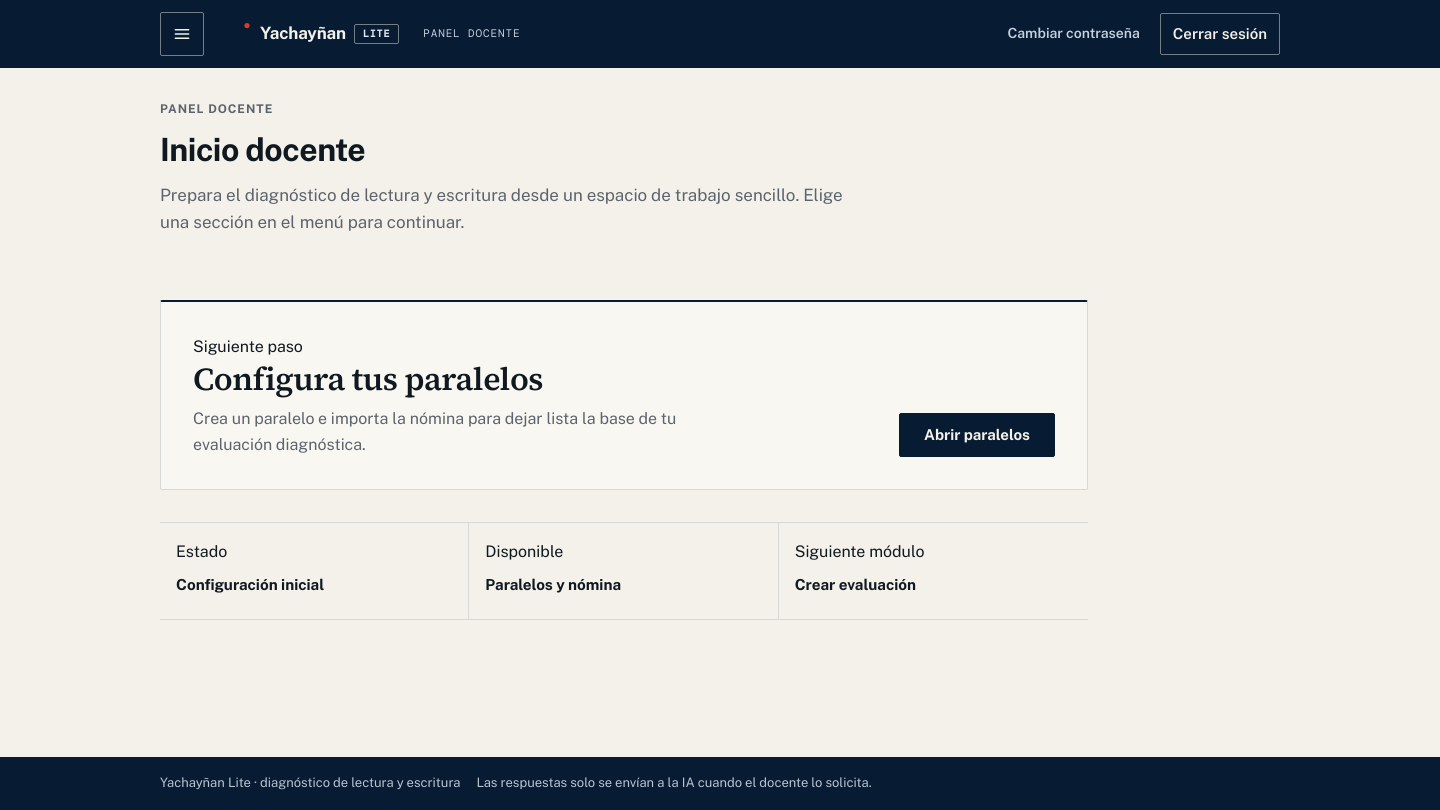
Test case: App › muestra un enlace discreto para cambiar la contraseña desde el inicio docente
Click the link "Cambiar contraseña" at (1074, 33), box [1008, 25, 1140, 41]
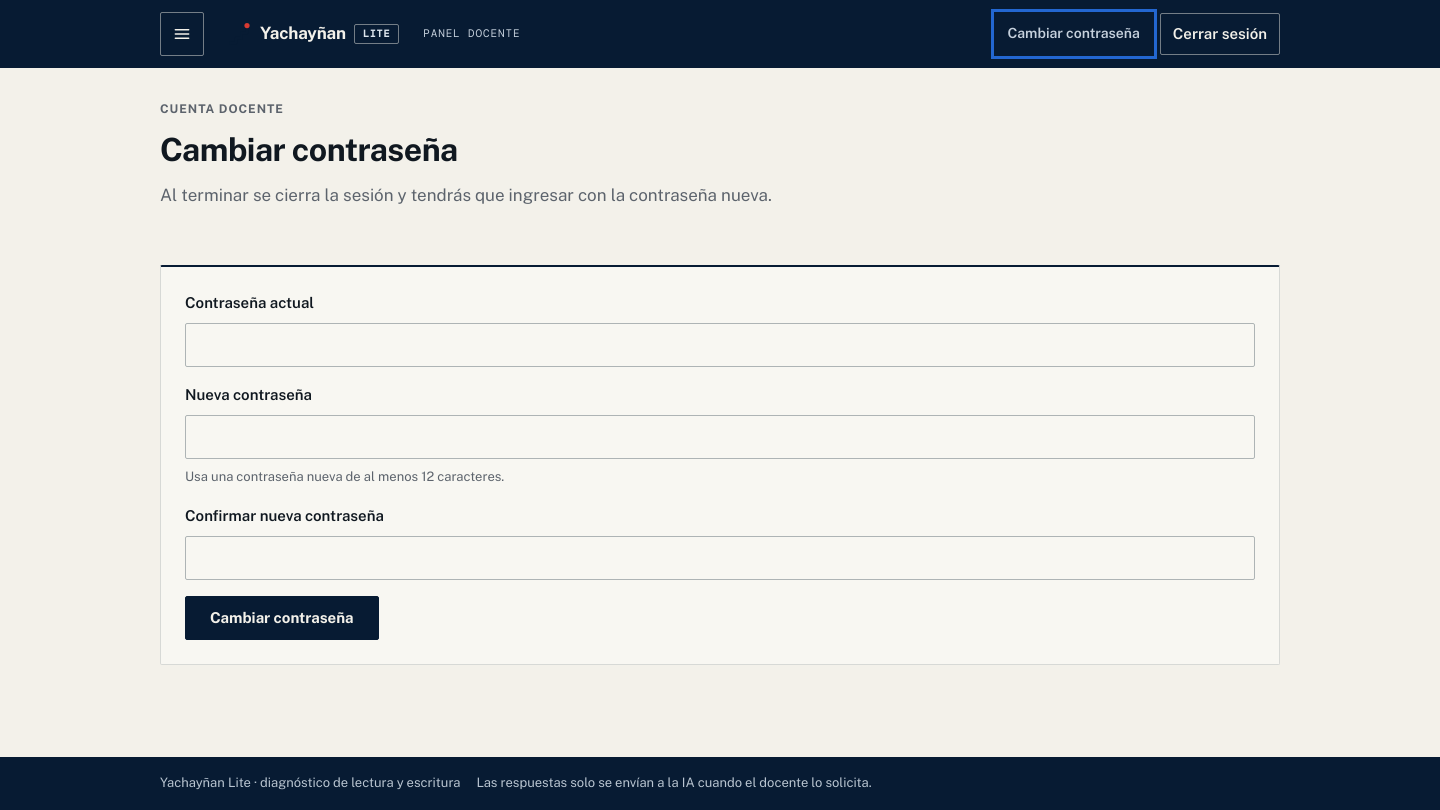
Expected: the heading "Cambiar contraseña" is shown, [160, 131, 458, 168]
